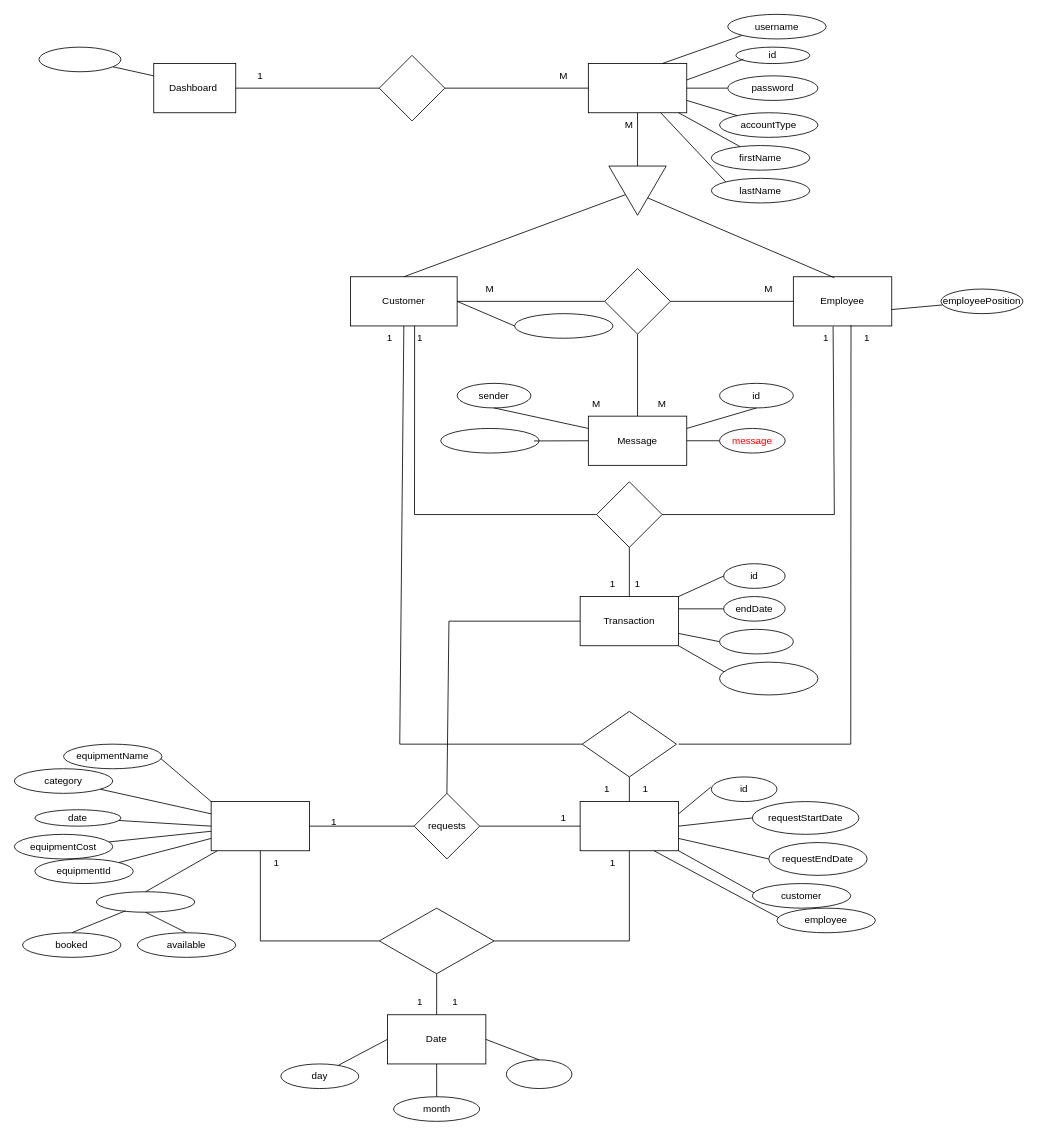
The diagram is 1037 pixels wide and 1136 high, and some of its shapes have lost their labels. Here are the shapes that lost their labels. From the top down, the centre of each, then its label:
pixel 79 59: login
pixel 411 88: accesses
pixel 637 88: User
pixel 637 190: IS A
pixel 637 301: sends
pixel 563 325: accountBalance
pixel 489 440: receiver
pixel 629 514: makes
pixel 756 641: startDate
pixel 768 678: transactionCost
pixel 628 744: books
pixel 260 826: Equipment
pixel 629 826: RentalRequest
pixel 145 901: rentalStatus
pixel 436 940: Assigned
pixel 539 1074: year
